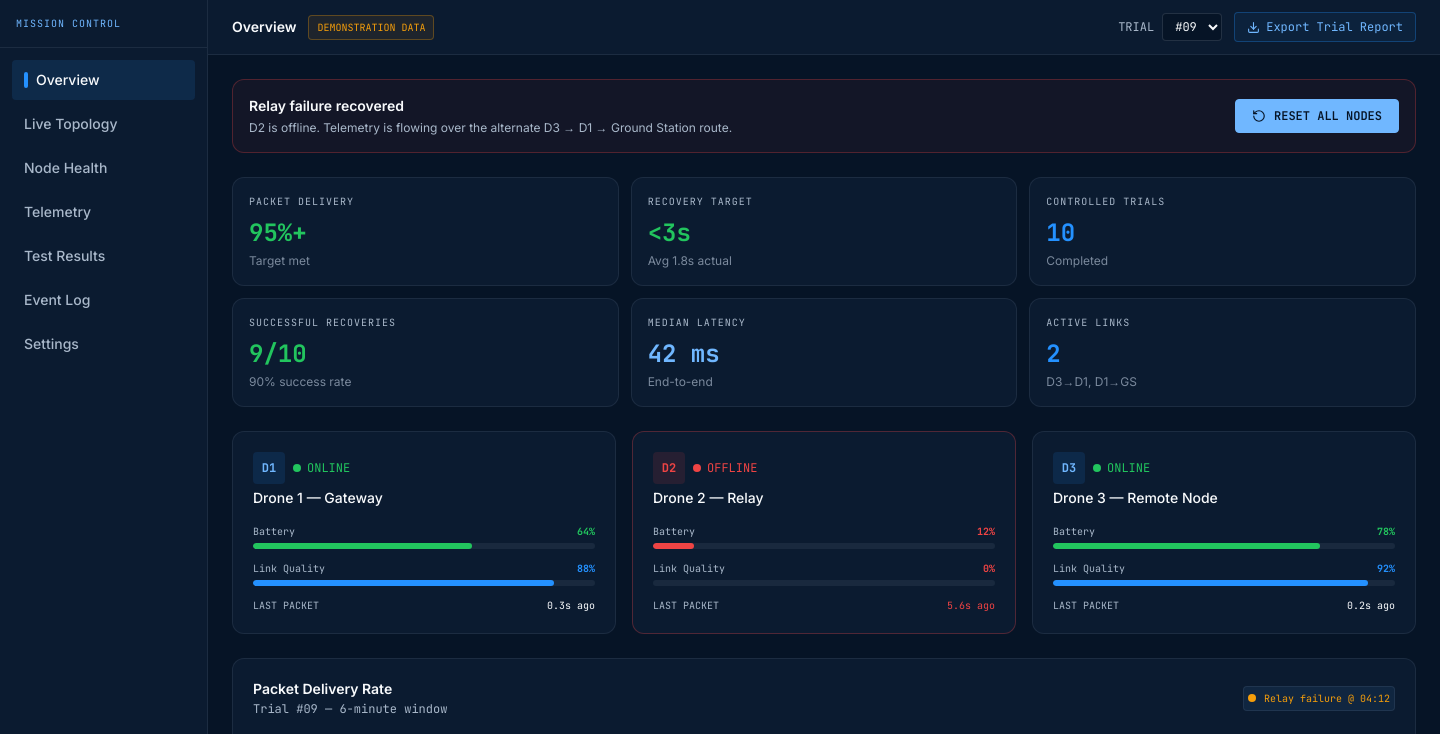
Scenario: Dashboard relay simulation › toggles between recovered-failure and normal operation states
Check: the text "Relay failure recovered" is shown, box [249,97,404,114]
Click the button "RESET ALL NODES": (1317, 116) [1235,99,1399,133]
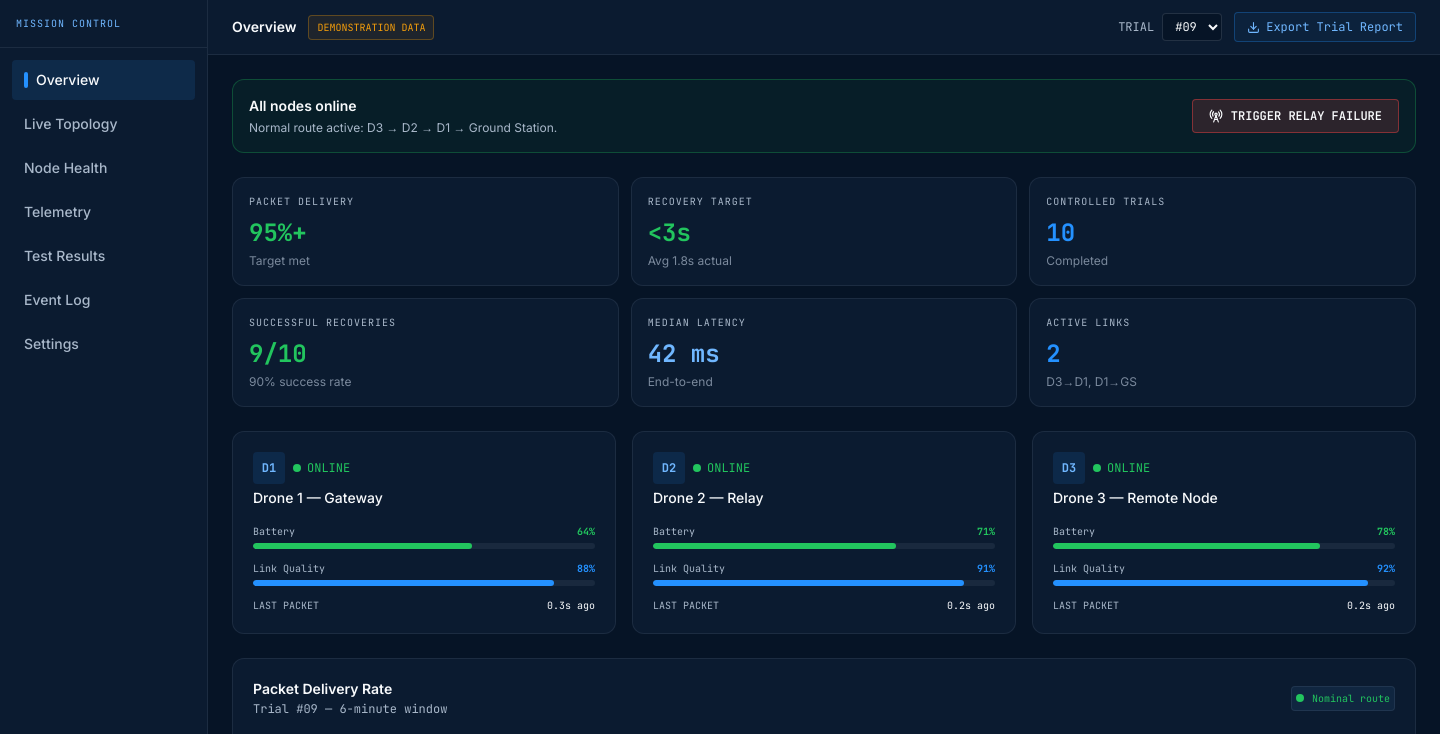
Check: the text "All nodes online" is shown, box [249,97,357,114]
Check: the text "Normal route active: D3 → D2 → D1 → Ground Station." is shown, box [249,120,557,136]
